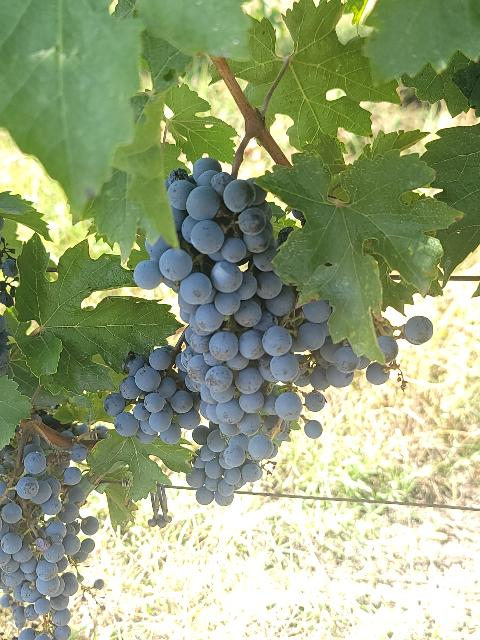grapes: (134, 159, 331, 434), (0, 450, 99, 640)
